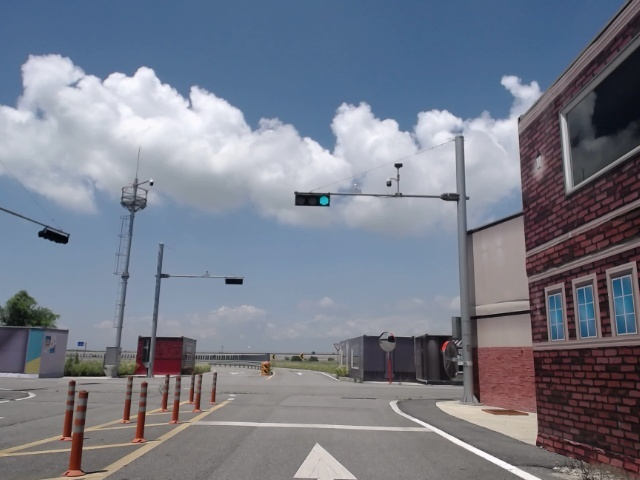green_3: (297, 192, 328, 207)
